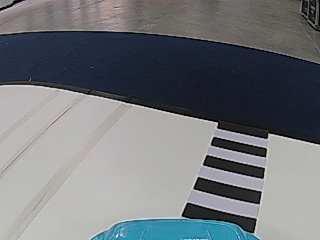CrossWalk: (181, 123, 268, 217)
